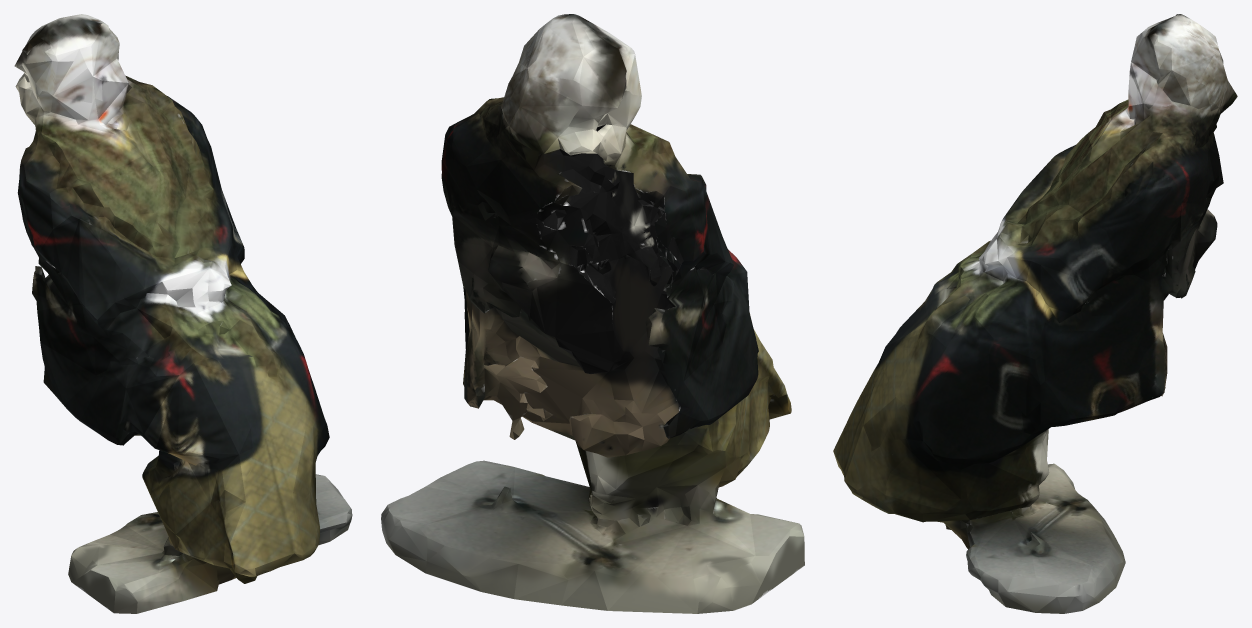
File: kakashi_06b.fbx
3 views of the same model, side by side, from view 1: azimuth 30°, elevation 25°; view 2: azimuth 150°, elevation 25°; view 3: azimuth 270°, elevation 25° (orthographic). The views are drawn at different scales.
Parts seen in each view (by area): view 1: kakashi_06:Mesh; view 2: kakashi_06:Mesh; view 3: kakashi_06:Mesh.
Part boxes in pixels (x1,y1,x2,y2): kakashi_06:Mesh: (14, 14, 352, 613); kakashi_06:Mesh: (381, 14, 804, 613); kakashi_06:Mesh: (833, 14, 1237, 613).
Bounding box in the file's own units: 12.7 × 21.83 × 16.17.
1 material, 1 textured.
